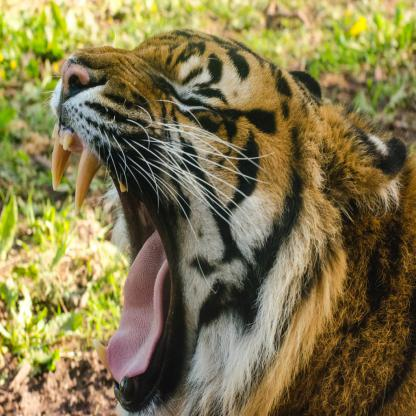tiger: (50, 22, 330, 406)
